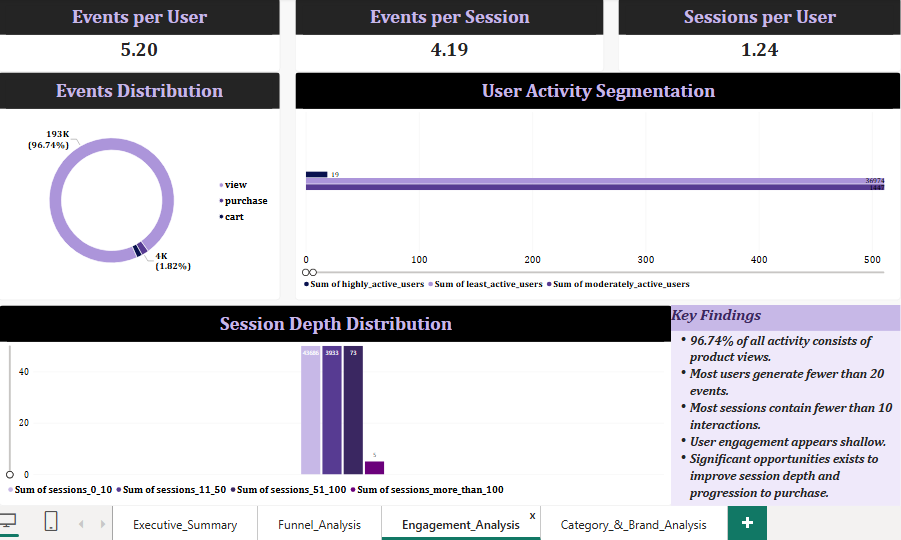

The dashboard page shown, as its layout file describes it:
{"tool":"powerbi","page":{"name":"Engagement_Analysis","canvas":[1920,1080],"ordinal":2},"visuals":[{"type":"kpi","title":"Events per User","fields":{"Indicator":["Sum(events_KPI_cards.events_per_user)"],"TrendLine":["events_KPI_cards.events_per_user"]},"box":[0,0,599.5,157.3],"z":0},{"type":"kpi","title":"Events per Session","fields":{"Indicator":["Sum(events_KPI_cards.events_per_session)"],"TrendLine":["events_KPI_cards.events_per_session"]},"box":[631.4,0,656.9,157.3],"z":1000},{"type":"kpi","title":"Sessions per User","fields":{"Indicator":["Sum(events_KPI_cards.session_per_user)"],"TrendLine":["events_KPI_cards.session_per_user"]},"box":[1318.1,0,601.7,157.3],"z":2000},{"type":"donutChart","title":"Events Distribution","fields":{"Category":["events_distribution.event_type"],"Y":["Sum(events_distribution.num_events)"]},"box":[0,157.3,599.5,484.7],"z":3000},{"type":"clusteredBarChart","title":"User Activity Segmentation","fields":{"Y":["Sum(user_activity_segmentation_1.highly_active_users)","Sum(user_activity_segmentation_1.least_active_users)","Sum(user_activity_segmentation_1.moderately_active_users)"]},"box":[631.4,157.3,1288.3,484.7],"z":4000},{"type":"clusteredColumnChart","title":"Session Depth Distribution","fields":{"Y":["Sum(sessions_depth_distribution.sessions_0_10)","Sum(sessions_depth_distribution.sessions_11_50)","Sum(sessions_depth_distribution.sessions_51_100)","Sum(sessions_depth_distribution.sessions_more_than_100)"]},"box":[2.1,652.7,1430.8,427.3],"z":5000},{"type":"textbox","title":"Key Findings","box":[1431,653,488,427],"z":6000}]}

Visuals, with their boxes on the page's 1920x1080 design canvas (x1, y1, x2, y2). These are canvas units, not pixel positions in the 901x540 screenshot, which may show the page scaled, cropped or inside an application window:
"Events per User" kpi: bbox=(0, 0, 600, 157)
"Events per Session" kpi: bbox=(631, 0, 1288, 157)
"Sessions per User" kpi: bbox=(1318, 0, 1920, 157)
"Events Distribution" donutChart: bbox=(0, 157, 600, 642)
"User Activity Segmentation" clusteredBarChart: bbox=(631, 157, 1920, 642)
"Session Depth Distribution" clusteredColumnChart: bbox=(2, 653, 1433, 1080)
"Key Findings" textbox: bbox=(1431, 653, 1919, 1080)
